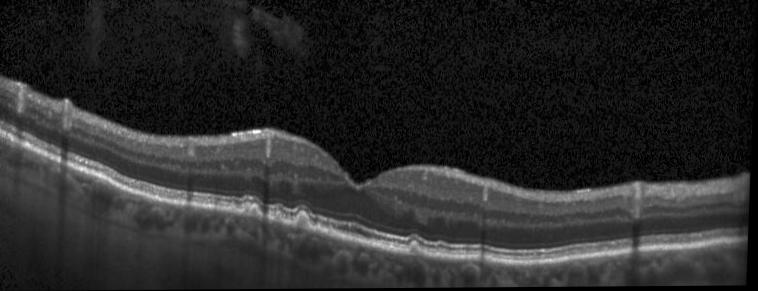retinal_drusen: (298, 214, 312, 230), (269, 211, 287, 222), (435, 248, 450, 259), (251, 207, 262, 218), (411, 245, 423, 254), (230, 201, 239, 210), (245, 206, 252, 214)
